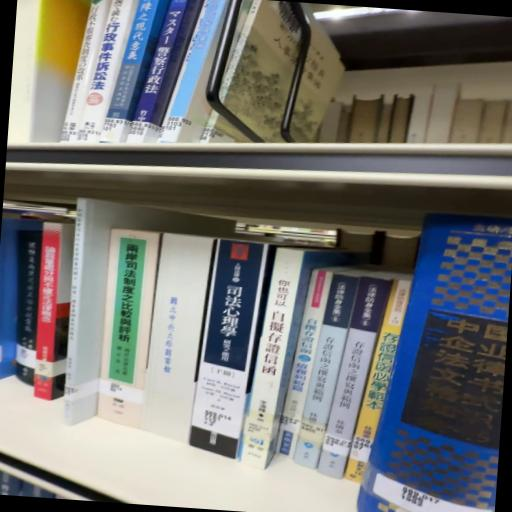backward: (145, 235, 219, 447)
book: (186, 238, 268, 468), (318, 272, 390, 484)
